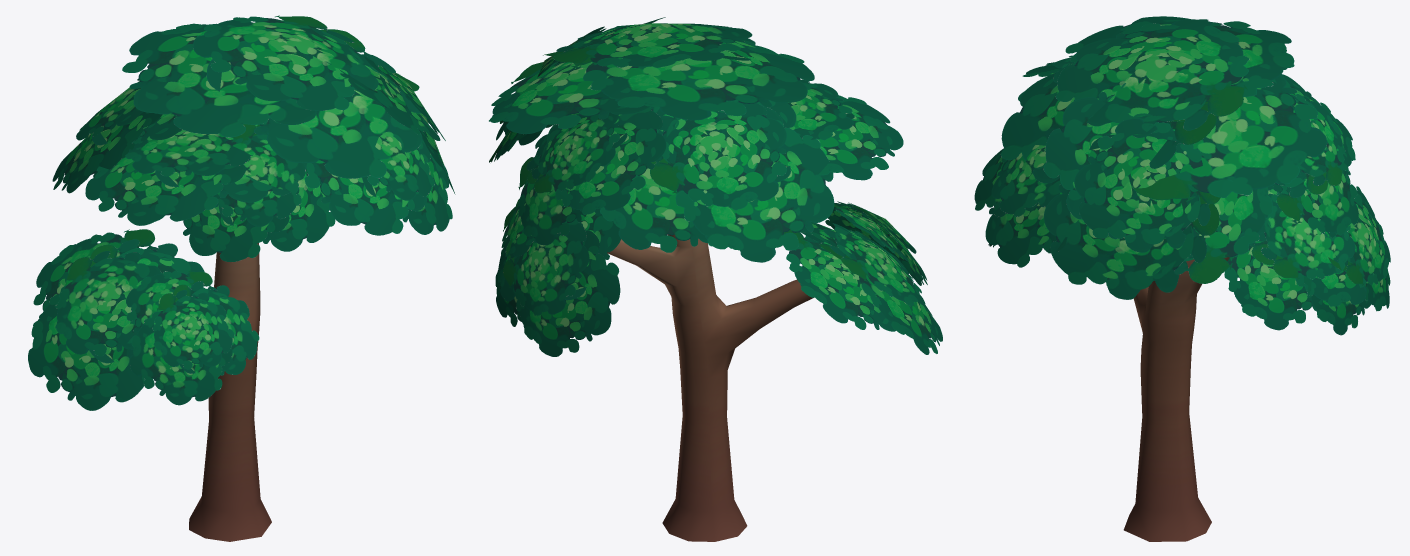
Rendered from SM_Tree_A.fbx.
3 renders of one model, left to right at view 1: azimuth 30°, elevation 25°; view 2: azimuth 150°, elevation 25°; view 3: azimuth 270°, elevation 25°, orthographic. The views are drawn at different scales.
Parts seen in each view (by area): view 1: bush19; view 2: bush19; view 3: bush19.
Boxes of the visible parts, x1=… form: bush19: x1=28, y1=15, x2=455, y2=541; bush19: x1=489, y1=17, x2=942, y2=541; bush19: x1=974, y1=16, x2=1390, y2=541.
Bounding box in the file's own units: 496 × 541 × 416.
1 material, 1 textured.
